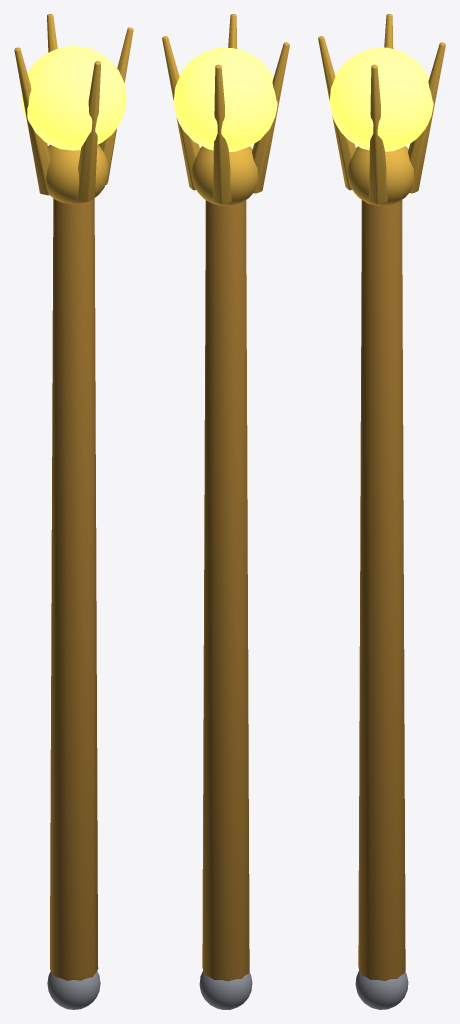
The model's file is dragonstaff.glb.
The picture shows the model from 3 angles, left to right: view 1: azimuth 90°, elevation 25°; view 2: azimuth 150°, elevation 25°; view 3: azimuth 330°, elevation 25°; orthographic projection.
Visible parts, largest first — view 1: wpn_dragonstaff; view 2: wpn_dragonstaff; view 3: wpn_dragonstaff.
Boxes of the visible parts, x1,y1,x2,y2 form: wpn_dragonstaff: [14, 14, 133, 1009]; wpn_dragonstaff: [162, 14, 289, 1009]; wpn_dragonstaff: [318, 14, 445, 1009].
Size of the model in its own units: 0.2708 by 2.43 by 0.2708.
